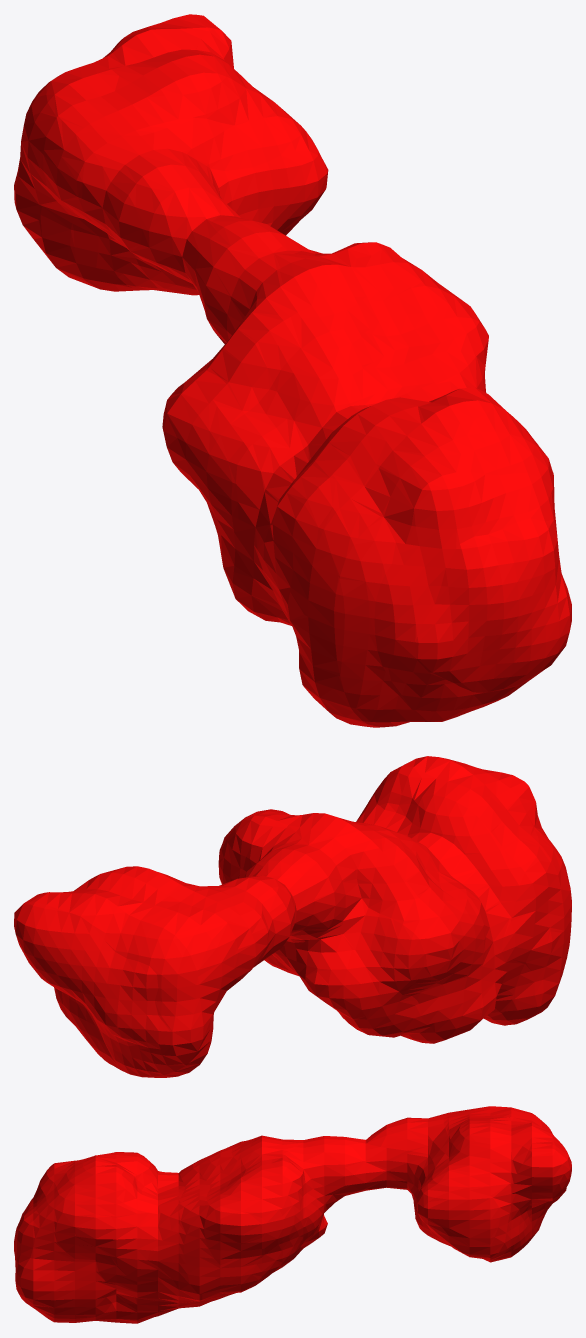
Rendered from metR_coarse.dae.
The picture shows the model from 3 angles, top to bottom: view 1: azimuth 30°, elevation 25°; view 2: azimuth 150°, elevation 25°; view 3: azimuth 270°, elevation 25°; orthographic projection. The views are drawn at different scales.
Parts seen in each view (by area): view 1: metR; view 2: metR; view 3: metR.
Boxes of the visible parts, x1,y1,x2,y2 form: metR: [14, 14, 571, 727]; metR: [14, 756, 571, 1077]; metR: [14, 1106, 571, 1323].
Size of the model in its own units: 40.97 by 48.8 by 108.
